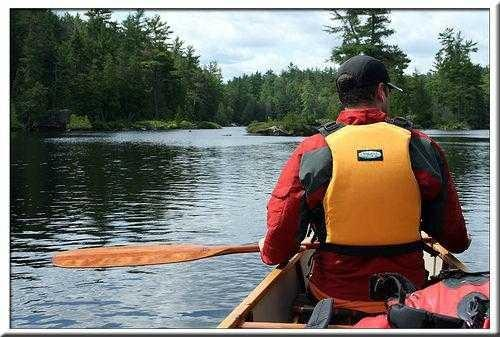kayak: (217, 243, 490, 327)
